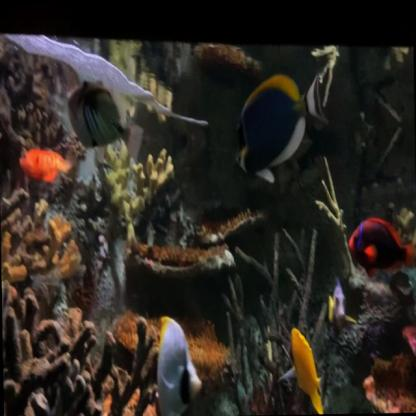fish: (234, 63, 334, 185), (155, 308, 205, 415), (67, 77, 131, 152), (347, 214, 415, 282), (282, 325, 328, 414), (19, 147, 73, 186), (326, 278, 358, 336)
